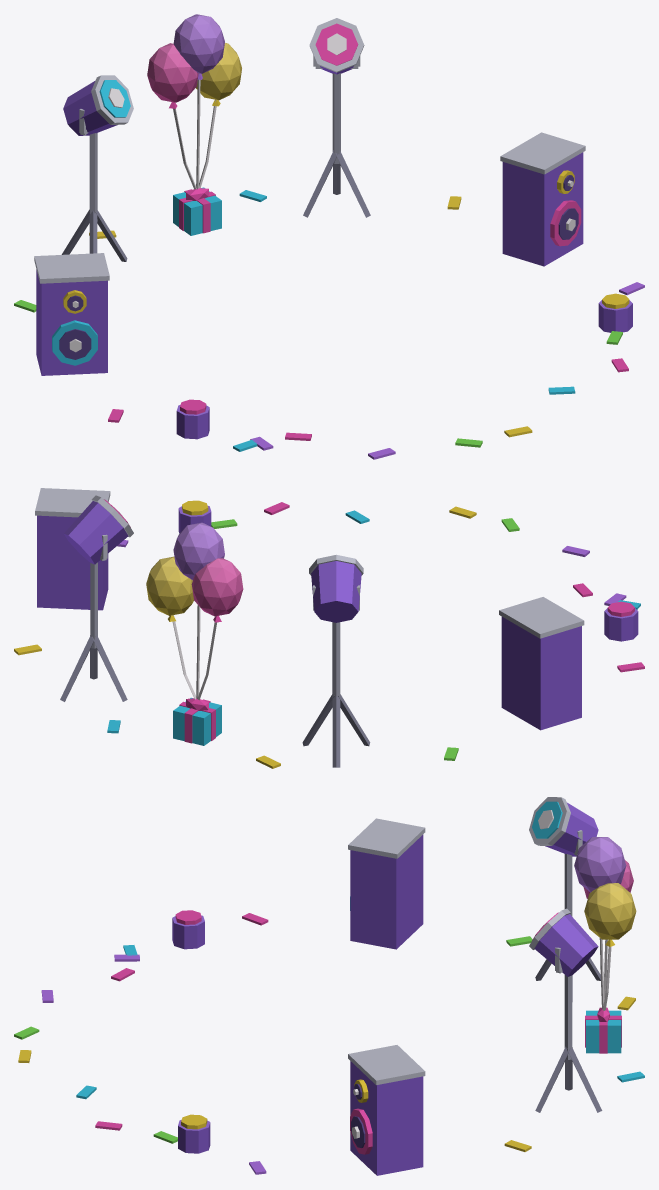
Rendered from habitat_theme_party.fbx.
3 views of the same model, one above another, from view 1: azimuth 30°, elevation 25°; view 2: azimuth 150°, elevation 25°; view 3: azimuth 270°, elevation 25° (orthographic).
Parts seen in each view (by area): view 1: habitat_theme_party; view 2: habitat_theme_party; view 3: habitat_theme_party.
Part boxes in pixels (x1,y1,x2,y2): habitat_theme_party: (14,14,644,459); habitat_theme_party: (14,488,644,768); habitat_theme_party: (14,797,644,1175).
Size of the model in its own units: 7.37 by 2.73 by 7.49.
